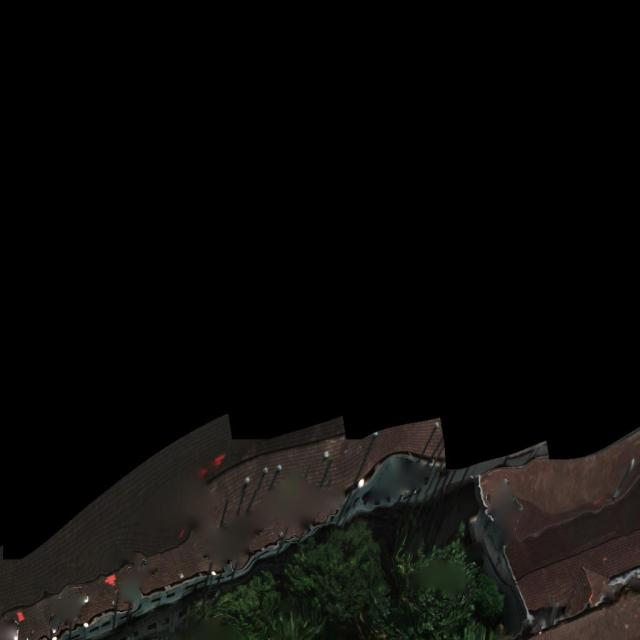Tree: (391, 520, 507, 640), (284, 519, 394, 627), (189, 568, 329, 640)
